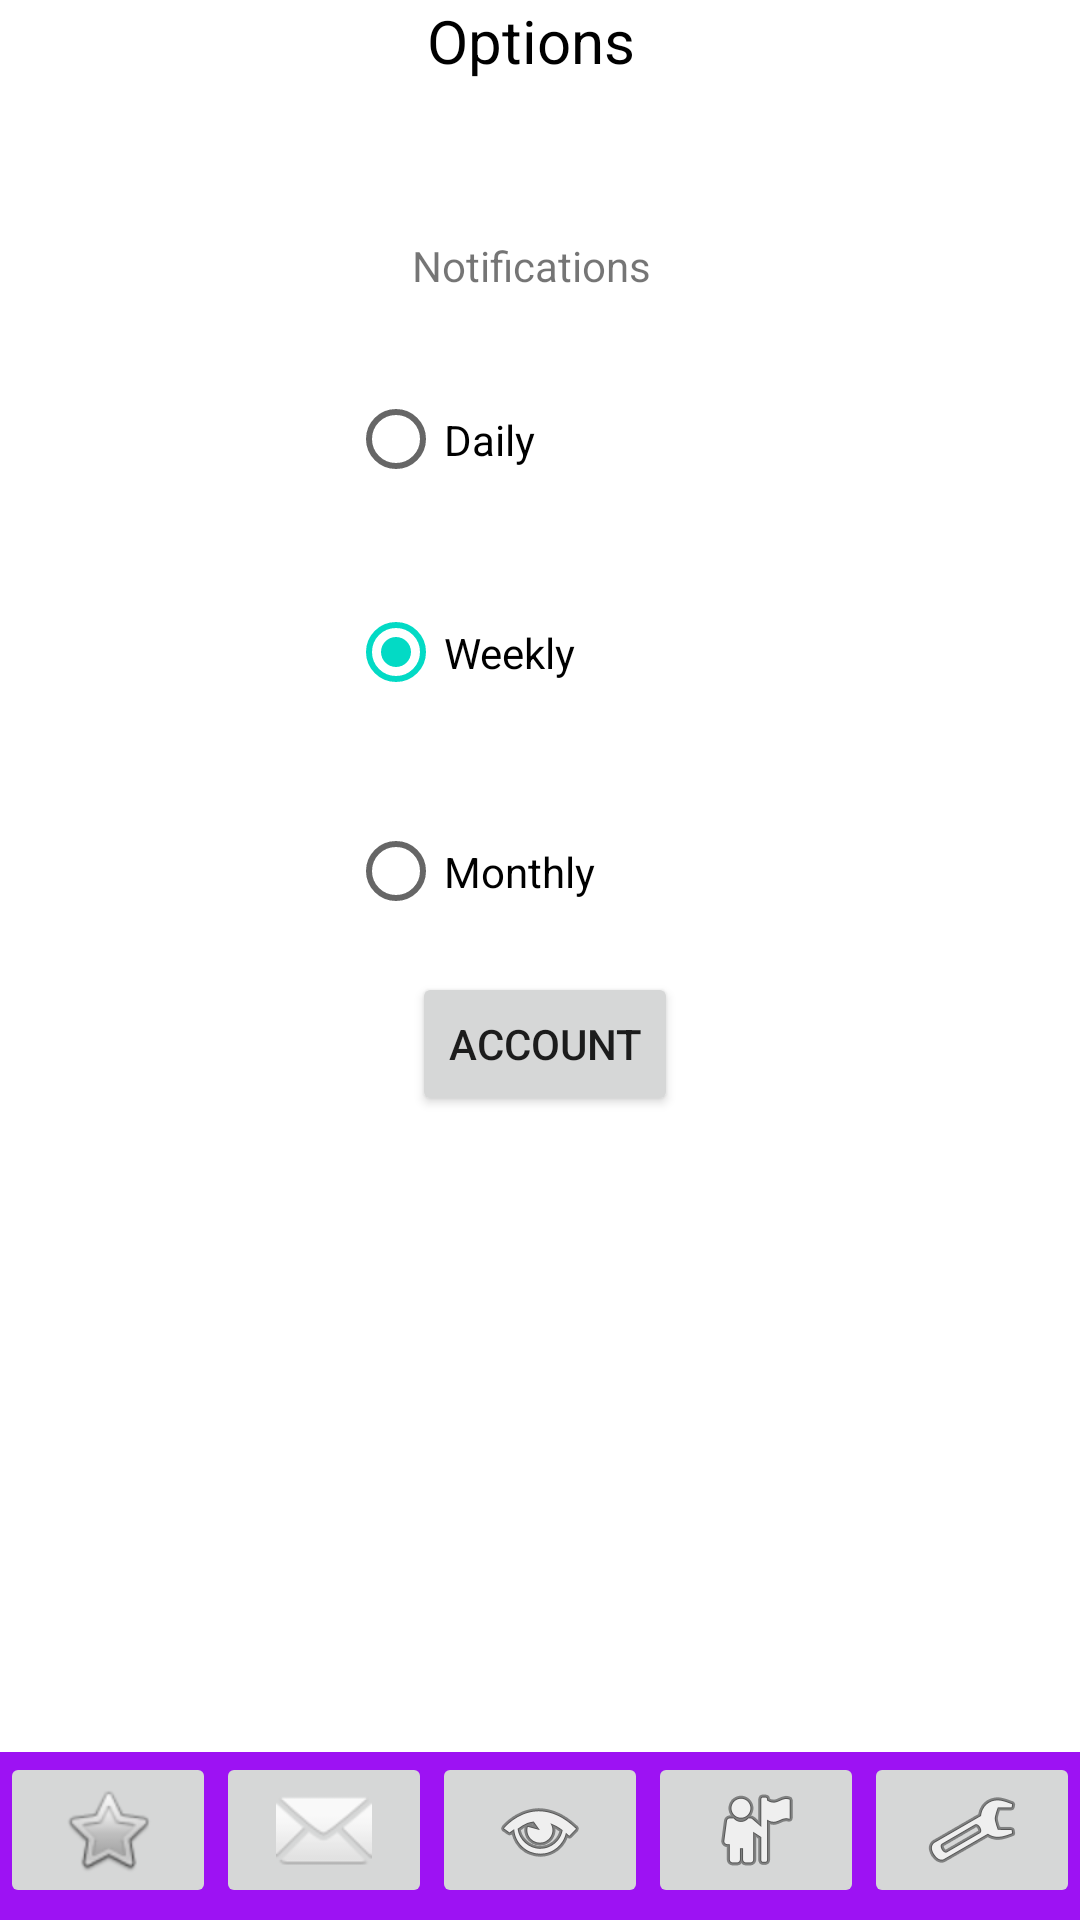

Where icons sit on this 1080×1920 app screen, as (x1,y1,x2,y2):
email: (228,1770,420,1890)
myplaces: (660,1770,852,1890)
preferences: (876,1770,1068,1890)
star off: (12,1770,204,1890)
view: (444,1770,636,1890)
